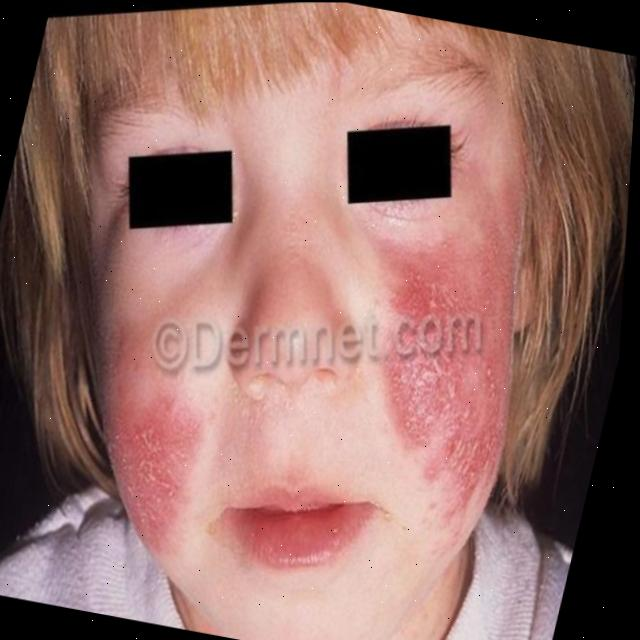Eczema: (314, 150, 568, 528), (81, 334, 228, 551)
